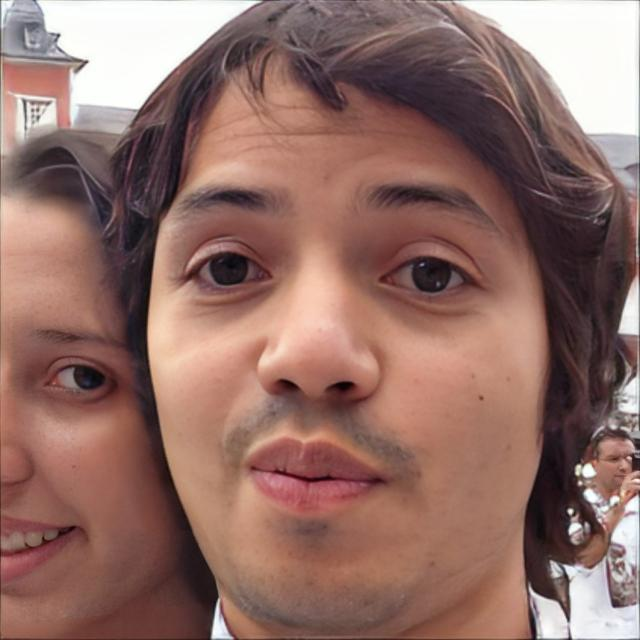happy: (0, 136, 146, 640)
surprise: (146, 47, 556, 640)
